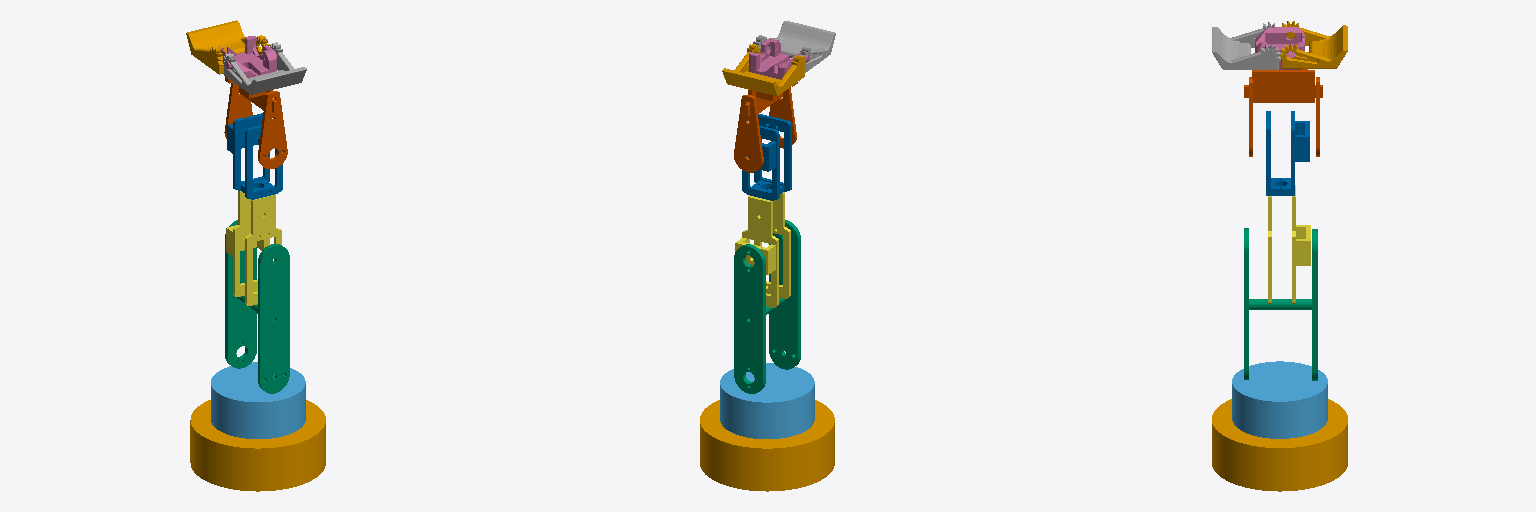
robot.urdf — arm_mesh:
<?xml version = "1.0" ?>
<robot name="arm_mesh">
	<link name = "base">
			<visual>
				<origin rpy="0 0 0" xyz = "0 0 0"/>
				<geometry>
               		<mesh filename="package://robotic_arm_pkg/meshes/base.stl" scale = "0.001 0.001 0.001"/>
            	</geometry>
        	</visual>

            <collision>
                <origin rpy="0 0 0" xyz = "0 0 0"/>
                <geometry>
                    <mesh filename="package://robotic_arm_pkg/meshes/base.stl" scale = "0.001 0.001 0.001"/>
                </geometry>
            </collision>

    </link>


    <joint name = "base_link1" type = "revolute">
			<axis xyz= "0 0 1"/>
			<limit effort="1000.0" lower="-1.57" upper="1.57" velocity="0.5" />
        	<origin rpy="0 0 0" xyz="0 0 0.033"/>
        	<parent link="base"/>
        	<child link="link1"/>
    </joint>

     <transmission name="trans_base_link1">
      <type>transmission_interface/SimpleTransmission</type>
      <joint name="base_link1">
        <hardwareInterface>hardware_interface/PositionJointInterface</hardwareInterface>
      </joint>
      <actuator name="motor_base_link1">
        <hardwareInterface>hardware_interface/PositionJointInterface</hardwareInterface>
        <mechanicalReduction>1</mechanicalReduction>
      </actuator>
    </transmission>

    <link name = "link1">
			<visual>
				<origin rpy="0 0 0" xyz = "0 0 0"/>
				<geometry>
               		<mesh filename="package://robotic_arm_pkg/meshes/link1.stl" scale = "0.001 0.001 0.001"/>
            	</geometry>
        	</visual>

            <collision>
                <origin rpy="0 0 0" xyz = "0 0 0"/>
                <geometry>
                    <mesh filename="package://robotic_arm_pkg/meshes/link1.stl" scale = "0.001 0.001 0.001"/>
                </geometry>
            </collision>

            <inertial>
                <mass value = "0.075"/>
                <origin rpy="0 0 0" xyz = "0 0 0.0325 "/>
                <inertia ixx="0.037" ixy="0.000274" ixz="-0.000001395" iyy="0.0245" iyz="0.000007207" izz="0.01526"/>
            </inertial>

        
    </link>

    <joint name = "link1_link2" type = "revolute">
			<axis xyz= "0 1 0"/>
			<limit effort="1000.0" lower="-1.57" upper="1.57" velocity="0.5" />
        	<origin rpy="0 0 0" xyz="0 0 0.05"/>
        	<parent link="link1"/>
        	<child link="link2"/>
        </joint>

    <transmission name="trans_link1_link2">
      <type>transmission_interface/SimpleTransmission</type>
      <joint name="link1_link2">
        <hardwareInterface>hardware_interface/PositionJointInterface</hardwareInterface>
      </joint>
      <actuator name="motor_link1_link2">
        <hardwareInterface>hardware_interface/PositionJointInterface</hardwareInterface>
        <mechanicalReduction>1</mechanicalReduction>
      </actuator>
    </transmission>

    

    <link name = "link2">
			<visual>
				<origin rpy="0 0 0" xyz = "0 0 0"/>
				<geometry>
               		<mesh filename="package://robotic_arm_pkg/meshes/link2.stl" scale = "0.001 0.001 0.001"/>
            	</geometry>
        	</visual>
            <collision>
                <origin rpy="0 0 0" xyz = "0 0 0.047"/>
                <geometry>
                    <box size ="0.025 0.054 0.116"/>
                </geometry>
            </collision>

            <inertial>
                <mass value = "0.018"/>
                <origin rpy="0 0 0" xyz = "0 0 -0.005 "/>
                <inertia ixx="0.037" ixy="0.000274" ixz="-0.000001395" iyy="0.0245" iyz="0.000007207" izz="0.01526"/>
            </inertial>

           
    </link>


    <joint name = "link2_link3bot" type = "revolute">
			<axis xyz= "0 1 0"/>
			<limit effort="1000.0" lower="-1.57" upper="1.57" velocity="0.5" />
        	<origin rpy="0 0 0" xyz="0 0 0.095"/>
        	<parent link="link2"/>
        	<child link="link3bot"/>
        </joint>

    <transmission name="trans_link2_link3bot">
      <type>transmission_interface/SimpleTransmission</type>
      <joint name="link2_link3bot">
        <hardwareInterface>hardware_interface/PositionJointInterface</hardwareInterface>
      </joint>
      <actuator name="motor_link2_link3bot">
        <hardwareInterface>hardware_interface/PositionJointInterface</hardwareInterface>
        <mechanicalReduction>1</mechanicalReduction>
      </actuator>
    </transmission>

    

<link name = "link3bot">
			<visual>
				<origin rpy="0 0 0" xyz = "0 0 0"/>
				<geometry>
               		<mesh filename="package://robotic_arm_pkg/meshes/link3bot.stl" scale = "0.001 0.001 0.001"/>
            	</geometry>
        	</visual>

            <collision>
                <origin rpy="0 0 0" xyz = "0 0.004 0.002"/>
                <geometry>
                    <box size="0.03 0.035 0.08"/>
                </geometry>
            </collision>

            <inertial>
                <mass value = "0.185"/>
                <origin rpy="0 0 0" xyz = "0 0 -0.01 "/>
                <inertia ixx="0.037" ixy="0.000274" ixz="-0.000001395" iyy="0.0245" iyz="0.000007207" izz="0.01526"/>
            </inertial>

        
    </link>

    <joint name = "link3bot_link3top" type = "revolute">
			<axis xyz= "0 0 1"/>
			<limit effort="1000.0" lower="-1.57" upper="1.57" velocity="0.5" />
        	<origin rpy="0 0 0" xyz="0 0 0.045"/>
        	<parent link="link3bot"/>
        	<child link="link3top"/>
        </joint>

    <transmission name="trans_link3bot_link3top">
      <type>transmission_interface/SimpleTransmission</type>
      <joint name="link3bot_link3top">
        <hardwareInterface>hardware_interface/PositionJointInterface</hardwareInterface>
      </joint>
      <actuator name="motor_link3bot_link3top">
        <hardwareInterface>hardware_interface/PositionJointInterface</hardwareInterface>
        <mechanicalReduction>1</mechanicalReduction>
      </actuator>
    </transmission>

<link name = "link3top">
			<visual>
				<origin rpy="0 0 0" xyz = "0 0 0"/>
				<geometry>
               		<mesh filename="package://robotic_arm_pkg/meshes/link3top.stl" scale = "0.001 0.001 0.001"/>
            	</geometry>
        	</visual>

            <collision>
                <origin rpy="0 0 0" xyz = "0 0.004 0.028"/>
                <geometry>
                    <box size="0.03 0.035 0.055"/>
                </geometry>
            </collision>

            <inertial>
                <mass value = "0.075"/>
                <origin rpy="0 0 0" xyz = "0 0 -0.01 "/>
                <inertia ixx="0.037" ixy="0.000274" ixz="-0.000001395" iyy="0.0245" iyz="0.000007207" izz="0.01526"/>
            </inertial>

        
    </link>

    <joint name = "link3top_link4" type = "revolute">
			<axis xyz= "0 1 0"/>
			<limit effort="1000.0" lower="-1.57" upper="1.57" velocity="0.5" />
        	<origin rpy="0 0 0" xyz="0 0 0.04"/>
        	<parent link="link3top"/>
        	<child link="link4"/>
        </joint>

    <transmission name="trans_link3top_link4">
      <type>transmission_interface/SimpleTransmission</type>
      <joint name="link3top_link4">
        <hardwareInterface>hardware_interface/PositionJointInterface</hardwareInterface>
      </joint>
      <actuator name="motor_link3top_link4">
        <hardwareInterface>hardware_interface/PositionJointInterface</hardwareInterface>
        <mechanicalReduction>1</mechanicalReduction>
      </actuator>
    </transmission>


    <link name = "link4">
			<visual>
				<origin rpy="0 0 0" xyz = "0 0 0"/>
				<geometry>
               		<mesh filename="package://robotic_arm_pkg/meshes/link4.stl" scale = "0.001 0.001 0.001"/>
            	</geometry>
        	</visual>

            <collision>
                <origin rpy="0 0 0" xyz = "0 0 0"/>
                <geometry>
                    <mesh filename="package://robotic_arm_pkg/meshes/link4.stl" scale = "0.001 0.001 0.001"/>
                </geometry>
            </collision>

            <inertial>
                <mass value = "0.025"/>
                <origin rpy="0 0 0" xyz = "0 0 0 "/>
                <inertia ixx="0.00485" ixy="-0.000197" ixz="-0.00017" iyy="0.0084" iyz="0.0" izz="0.0042"/>
            </inertial>

           
    </link>

    <joint name = "link4_gripper_base" type = "revolute">
			<axis xyz= "0 0 1"/>
			<limit effort="1000.0" lower="-1.57" upper="1.57" velocity="0.5" />
        	<origin rpy="0 0 0" xyz="-0.01 0 0.055"/>
        	<parent link="link4"/>
        	<child link="gripper_base"/>
        </joint>

    <transmission name="trans_link4_gripper_base">
      <type>transmission_interface/SimpleTransmission</type>
      <joint name="link4_gripper_base">
        <hardwareInterface>hardware_interface/PositionJointInterface</hardwareInterface>
      </joint>
      <actuator name="motor_link4_gripper_base">
        <hardwareInterface>hardware_interface/PositionJointInterface</hardwareInterface>
        <mechanicalReduction>1</mechanicalReduction>
      </actuator>
    </transmission>

    

    <link name = "gripper_base">
			<visual>
				<origin rpy="0 0 0" xyz = "0 0 0"/>
				<geometry>
               		<mesh filename="package://robotic_arm_pkg/meshes/gripper_base.stl" scale = "0.001 0.001 0.001"/>
            	</geometry>
        	</visual>

            <collision>
                <origin rpy="0 0 0" xyz = "0 0 0"/>
                <geometry>
                    <mesh filename="package://robotic_arm_pkg/meshes/gripper_base.stl" scale = "0.001 0.001 0.001"/>
                </geometry>
            </collision>

            <inertial>
                <mass value = "0.020"/>
                <origin rpy="0 0 0" xyz = "0 0 0 "/>
                <inertia ixx="0.00156" ixy="0.0000274" ixz="-0.00001845" iyy="0.0016" iyz="0.000032" izz="0.0027"/>
            </inertial>

            
    </link>

 <joint name = "gripper_base_claw_L" type = "revolute">
			<axis xyz= "1 0 0"/>
			<limit effort="1000.0" lower="-1.57" upper="1.57" velocity="0.5" />
        	<origin rpy="0 0 0" xyz="0 -0.008 0.018"/>
        	<parent link="gripper_base"/>
        	<child link="claw_L"/>
        </joint>

    <transmission name="trans_gripper_base_claw_L">
      <type>transmission_interface/SimpleTransmission</type>
      <joint name="gripper_base_claw_L">
        <hardwareInterface>hardware_interface/PositionJointInterface</hardwareInterface>
      </joint>
      <actuator name="motor_gripper_base_claw_L">
        <hardwareInterface>hardware_interface/PositionJointInterface</hardwareInterface>
        <mechanicalReduction>1</mechanicalReduction>
      </actuator>
    </transmission>

    <link name = "claw_L">
			<visual>
				<origin rpy="0 0 0" xyz = "0 0 0"/>
				<geometry>
               		<mesh filename="package://robotic_arm_pkg/meshes/gripper_claw_L.stl" scale = "0.001 0.001 0.001"/>
            	</geometry>
        	</visual>
            <collision>
                <origin rpy="0 0 0" xyz = "0 0 0"/>
                <geometry>
                    <mesh filename="package://robotic_arm_pkg/meshes/gripper_claw_L.stl" scale = "0.001 0.001 0.001"/>
                </geometry>
            </collision>

            <inertial>
                <mass value = "0.007"/>
                <origin rpy="0 0 0" xyz = "0 0 0 "/>
                <inertia ixx="0.037" ixy="0.000274" ixz="-0.000001395" iyy="0.0245" iyz="0.000007207" izz="0.01526"/>
            </inertial>
    </link>

    <joint name = "gripper_base_claw_R" type = "revolute">
			<axis xyz= "-1 0 0"/>
			<limit effort="1000.0" lower="-1.57" upper="1.57" velocity="0.5" />
        	<origin rpy="0 0 0" xyz="0 0.008 0.018"/>
        	<parent link="gripper_base"/>
        	<child link="claw_R"/>
        </joint>

    <link name = "claw_R">
			<visual>
				<origin rpy="0 0 0" xyz = "0 0 0"/>
				<geometry>
               		<mesh filename="package://robotic_arm_pkg/meshes/gripper_claw_R.stl" scale = "0.001 0.001 0.001"/>
            	</geometry>
        	</visual>
            <collision>
                <origin rpy="0 0 0" xyz = "0 0 0"/>
                <geometry>
                    <mesh filename="package://robotic_arm_pkg/meshes/gripper_claw_R.stl" scale = "0.001 0.001 0.001"/>
                </geometry>
            </collision>

            <inertial>
                <mass value = "0.007"/>
               <origin rpy="0 0 0" xyz = "0 0 0 "/>
                <inertia ixx="0.037" ixy="0.000274" ixz="-0.000001395" iyy="0.0245" iyz="0.000007207" izz="0.01526"/>
            </inertial>
    </link>


 <gazebo>
    <plugin name="gazebo_ros_control" filename="libgazebo_ros_control.so">
    <robotNamespace>/arm_mesh</robotNamespace>
    <robotSimType>gazebo_ros_control/DefaultRobotHWSim</robotSimType>
    <legacyModeNS>true</legacyModeNS>
    </plugin>
  </gazebo>


   

</robot>

--- Render facts (derived) ---
3 views of the same robot in one strip: view 1: azimuth 30°, elevation 25°; view 2: azimuth 150°, elevation 25°; view 3: azimuth 270°, elevation 25° (orthographic).
Robot: arm_mesh — 9 links, 8 joints (8 revolute); root link base; default pose: every joint at zero.
Links seen in each view (by area): view 1: base, link2, link1, link3bot, link4, link3top, claw_R, claw_L, gripper_base; view 2: base, link2, link1, link3bot, link4, link3top, claw_L, claw_R, gripper_base; view 3: base, link1, link4, link2, claw_L, claw_R, link3top, link3bot, gripper_base.
Boxes of the visible links, x1,y1,x2,y2 form: base: [190, 400, 325, 491]; link2: [225, 220, 289, 393]; link1: [211, 362, 305, 438]; link3bot: [226, 191, 281, 305]; link4: [224, 76, 287, 168]; link3top: [227, 113, 282, 199]; claw_R: [186, 20, 269, 74]; claw_L: [222, 42, 306, 94]; gripper_base: [218, 36, 276, 77]; base: [700, 400, 834, 491]; link2: [734, 220, 800, 393]; link1: [720, 363, 814, 438]; link3bot: [735, 192, 790, 307]; link4: [734, 82, 797, 172]; link3top: [742, 114, 791, 200]; claw_L: [753, 21, 835, 72]; claw_R: [722, 44, 805, 96]; gripper_base: [749, 38, 809, 79]; base: [1212, 399, 1347, 491]; link1: [1232, 361, 1327, 438]; link4: [1244, 69, 1322, 156]; link2: [1244, 228, 1317, 380]; claw_L: [1212, 22, 1280, 69]; claw_R: [1280, 21, 1347, 68]; link3top: [1266, 111, 1309, 195]; link3bot: [1268, 185, 1310, 303]; gripper_base: [1255, 27, 1304, 69].
Bounding box of the posed robot: 0.1 × 0.1 × 0.3422 m (x, y, z).
Meshes: 9 distinct files referenced, 9 mesh visuals loaded (9 binary STL).